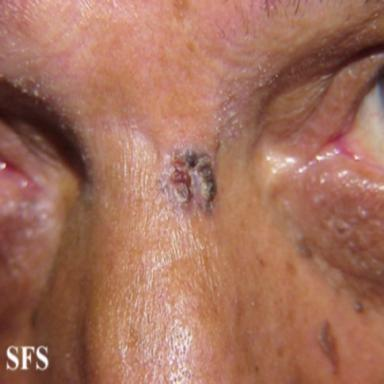basal-cell-carcinoma: (160, 145, 217, 212)
